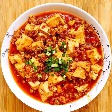mapodoufu: (9, 13, 105, 104)
